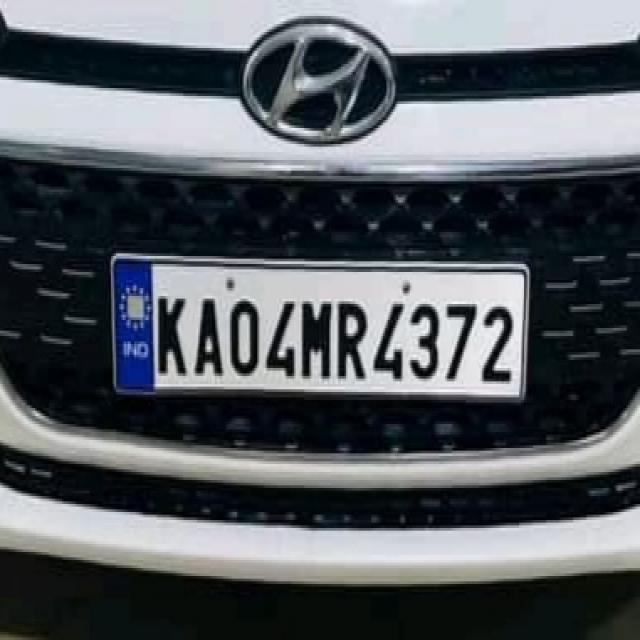0: (229, 291, 263, 382)
3: (408, 292, 441, 383)
4: (372, 293, 406, 387), (264, 298, 298, 382)
7: (442, 294, 479, 386)
A: (194, 286, 224, 380)
K: (155, 282, 191, 403)
M: (297, 288, 333, 384)
R: (336, 290, 369, 388)
